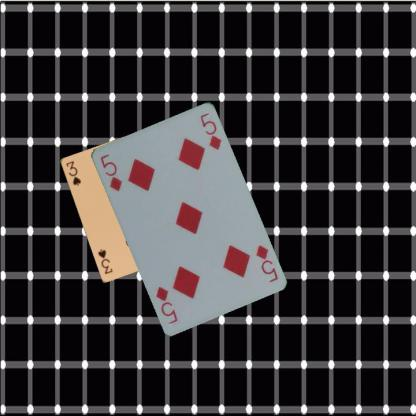3s: (63, 158, 82, 187)
5d: (253, 242, 279, 284), (97, 151, 123, 192)
